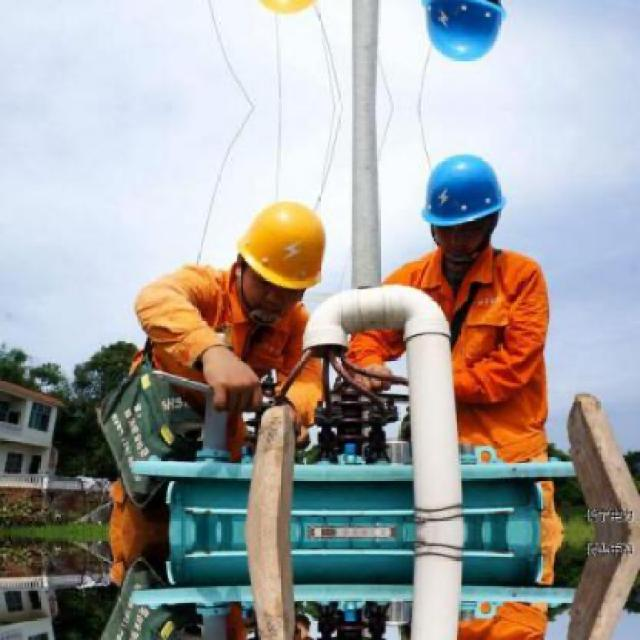helmet: (226, 184, 339, 324), (411, 137, 512, 266), (411, 0, 514, 77), (224, 0, 338, 29)
